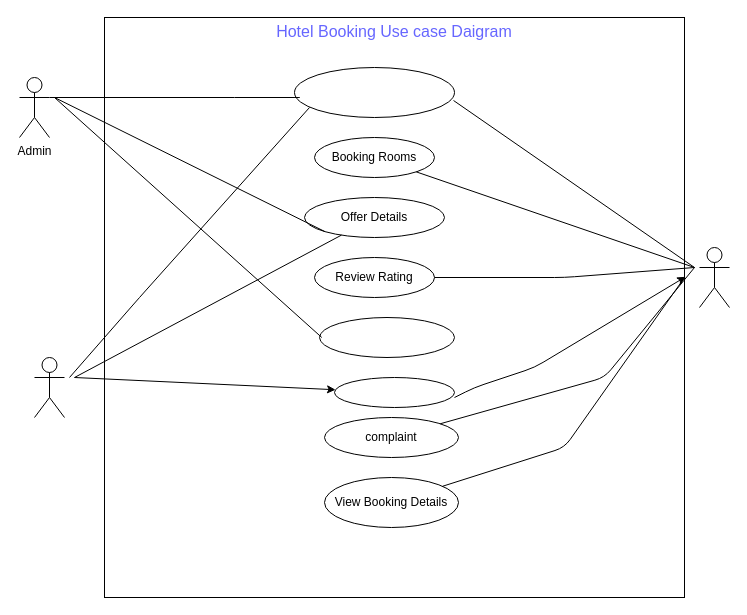
The diagram is 747 pixels wide and 615 high, and some of its shapes have lost their labels. Each missing label, with the box of its shape:
Block users: (318, 316, 454, 358)
coupons: (334, 376, 454, 408)
merchants: (34, 356, 64, 418)
Signin/signUp: (294, 66, 454, 118)
User: (698, 246, 730, 308)
